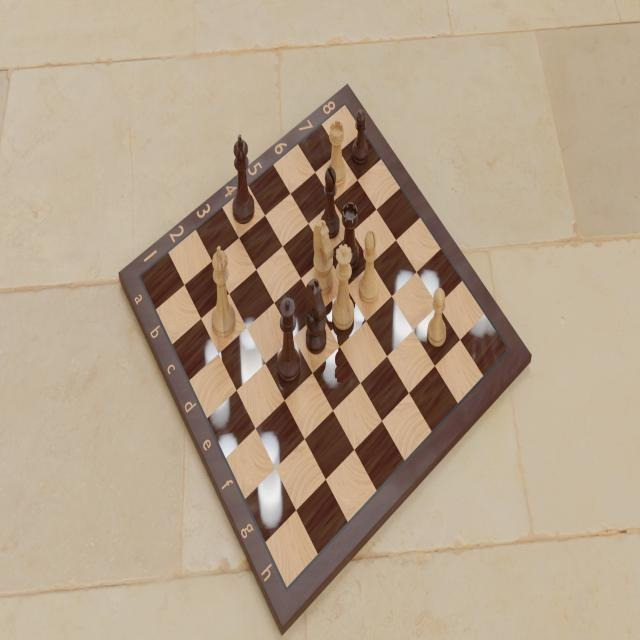black-bishop: (317, 166, 342, 238)
black-king: (228, 132, 258, 230)
black-knight: (300, 276, 331, 356)
black-pawn: (349, 107, 372, 168)
black-queen: (275, 293, 303, 389)
black-rook: (337, 194, 362, 277)
white-bishop: (356, 227, 380, 310)
white-king: (208, 243, 237, 341)
white-knight: (309, 218, 335, 298)
white-pawn: (425, 284, 451, 354)
white-queen: (330, 242, 358, 330)
white-rook: (326, 114, 350, 188)
